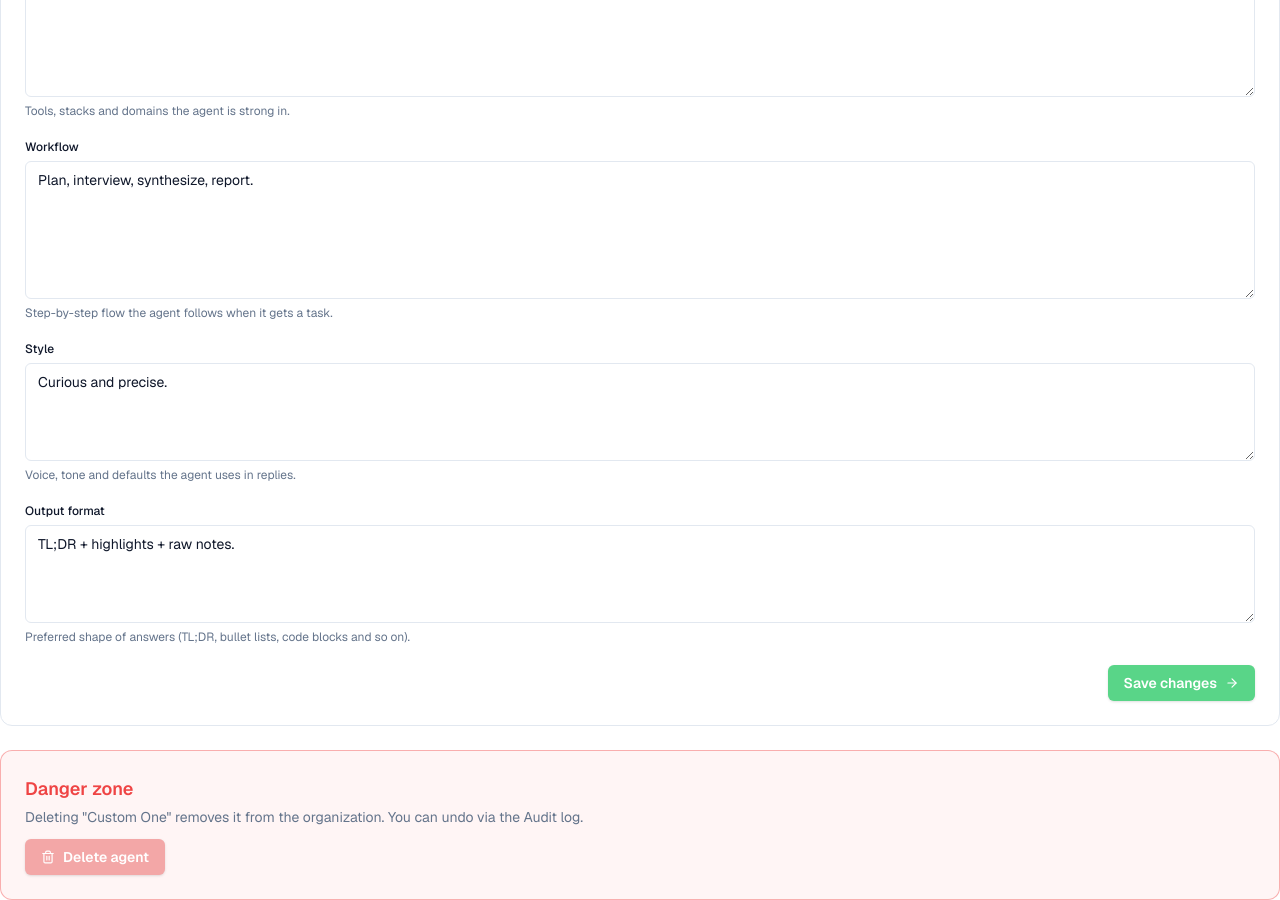
AgentSettingsPage › should open the delete confirm dialog when Danger Zone delete is clicked
(page scrolled)
Click the button "Delete agent": (95, 857) [25,839,165,875]
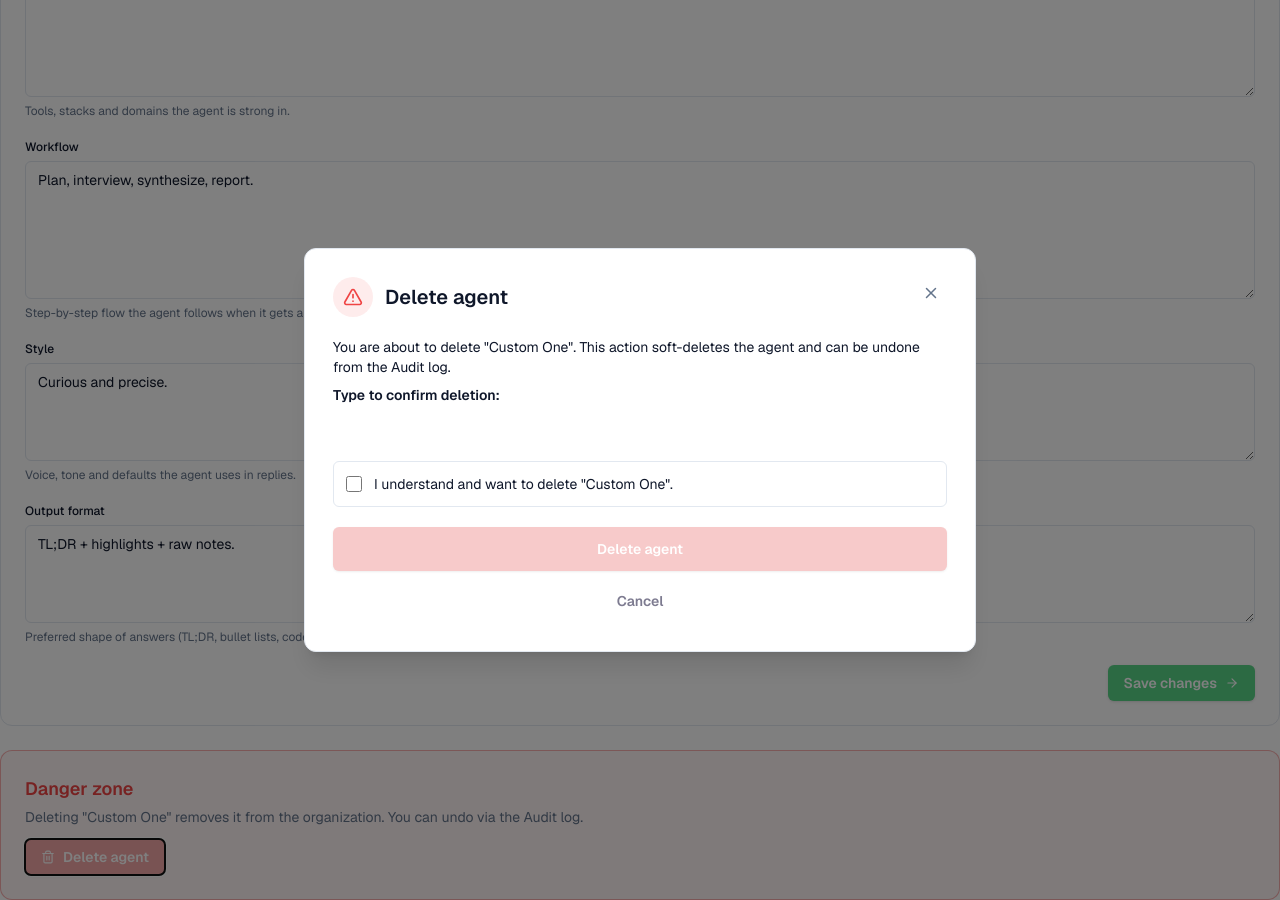
Expected: the dialog is shown
Expected: the heading "Delete agent" is shown, [385,283,508,311]
